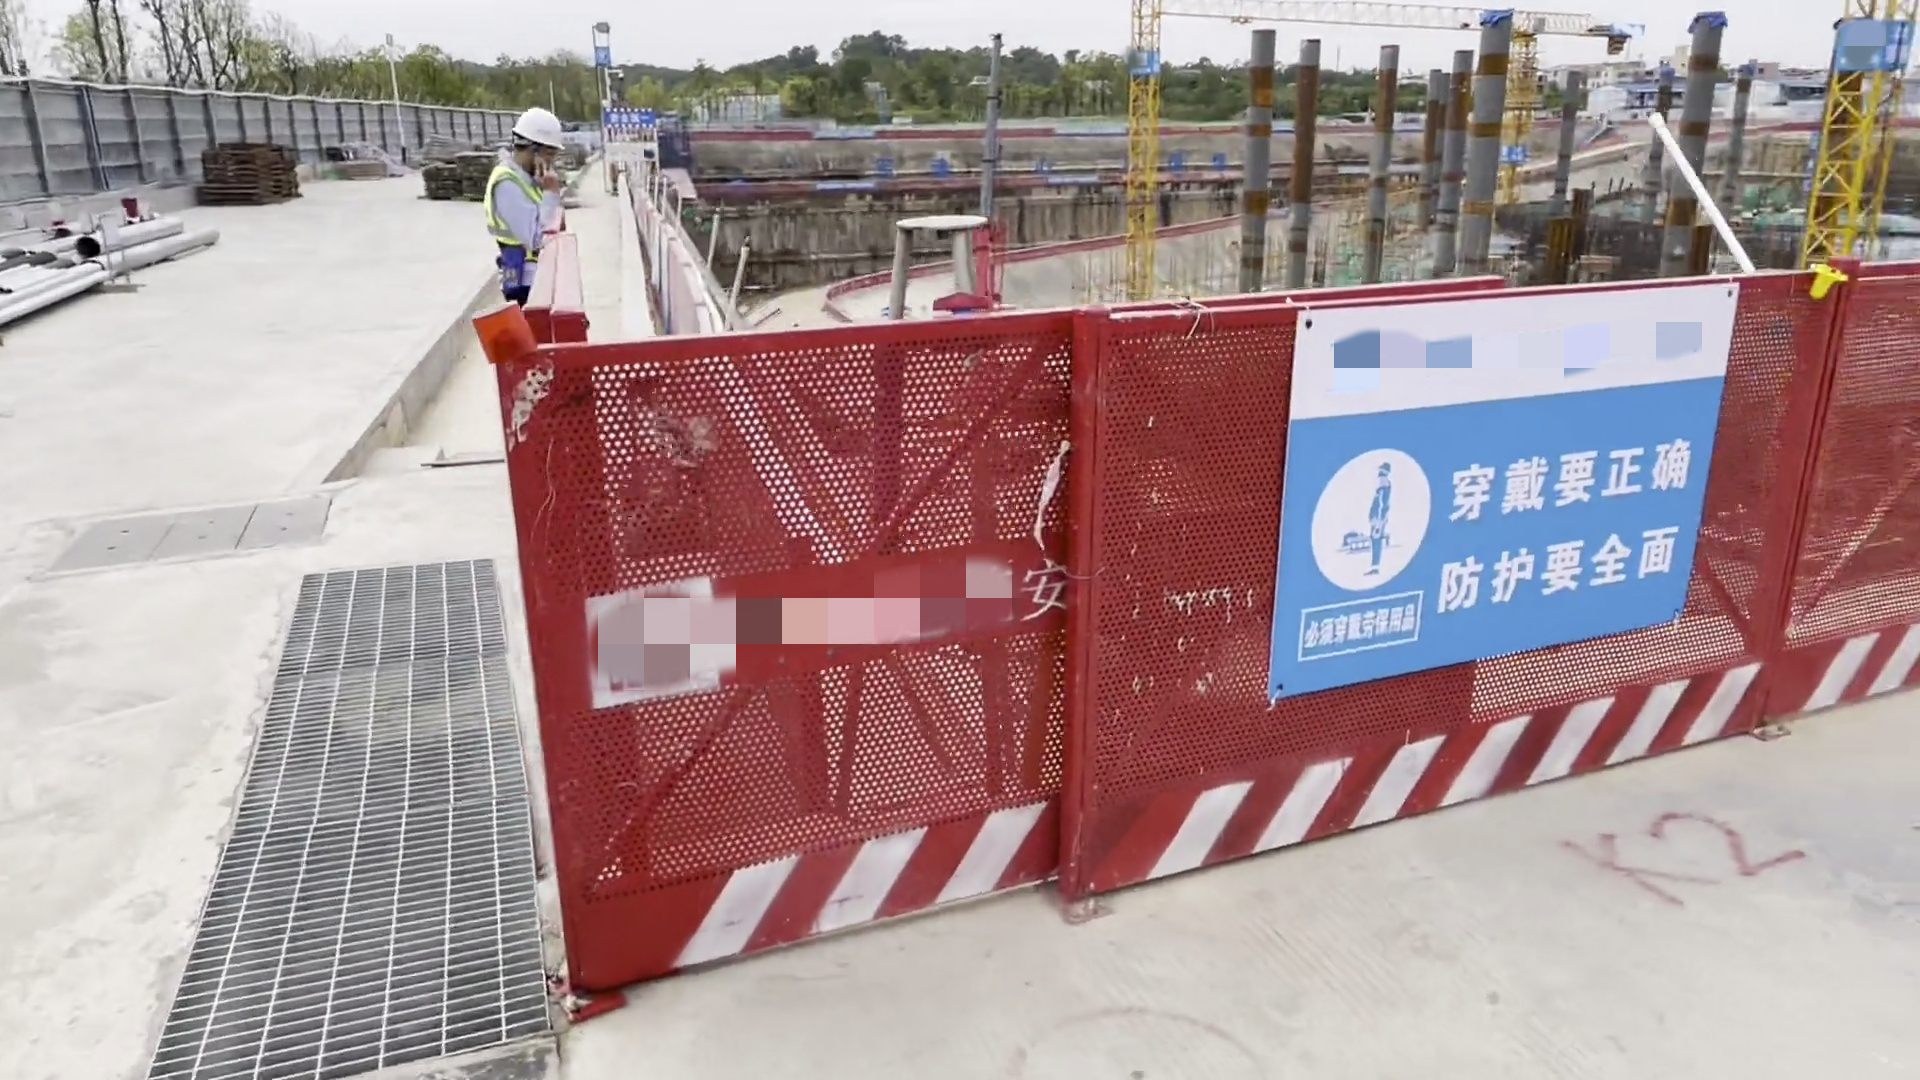fence: (518, 292, 1920, 964)
helmet: (512, 107, 574, 158)
person: (486, 105, 560, 313)
slogan: (1268, 287, 1747, 694), (601, 109, 654, 126), (814, 125, 875, 140), (1047, 173, 1104, 185), (1055, 125, 1127, 135), (817, 182, 874, 191), (1501, 144, 1525, 165), (1200, 166, 1247, 177), (1336, 163, 1370, 178), (1164, 124, 1238, 130), (1386, 165, 1419, 177), (1270, 126, 1295, 131)
vest: (479, 164, 542, 300)
